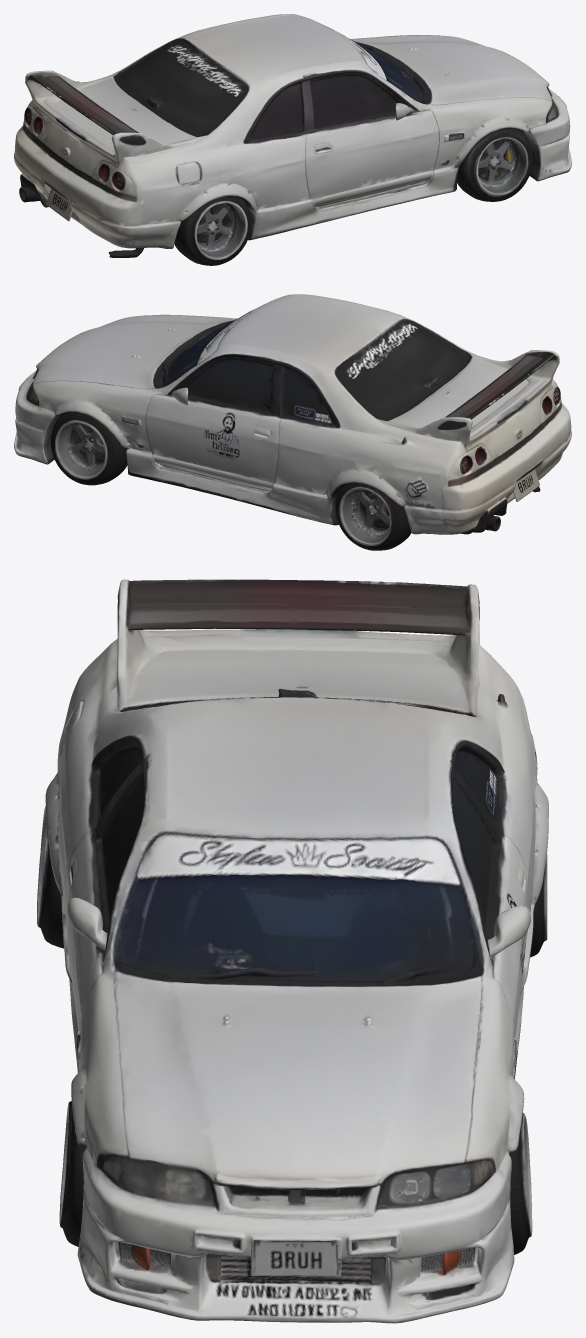
Rendered from bruh-v2.glb.
3 renders of one model, top to bottom at view 1: azimuth 30°, elevation 25°; view 2: azimuth 150°, elevation 25°; view 3: azimuth 270°, elevation 25°, orthographic. The views are drawn at different scales.
Visible parts, largest first — view 1: tripo_node_c9764145-afb6-49c8-bfc0-be760f0050c6; view 2: tripo_node_c9764145-afb6-49c8-bfc0-be760f0050c6; view 3: tripo_node_c9764145-afb6-49c8-bfc0-be760f0050c6.
Part boxes in pixels (<box>): tripo_node_c9764145-afb6-49c8-bfc0-be760f0050c6: <box>14,14,571,265</box>; tripo_node_c9764145-afb6-49c8-bfc0-be760f0050c6: <box>14,294,571,550</box>; tripo_node_c9764145-afb6-49c8-bfc0-be760f0050c6: <box>37,579,548,1323</box>.
Size of the model in its own units: 1 by 0.3219 by 0.4517.
1 material, 1 textured.
